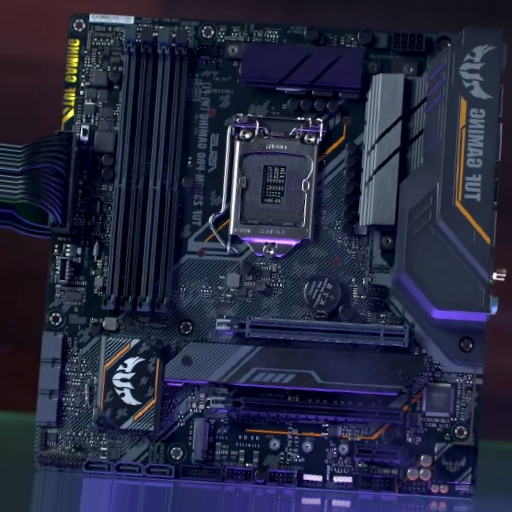CPU: (232, 115, 323, 260)
GPU: (205, 387, 403, 427), (215, 315, 409, 348)
MOTHERBOARD: (32, 23, 497, 492)
RAM: (107, 27, 189, 316)
SSD: (189, 417, 212, 464)
